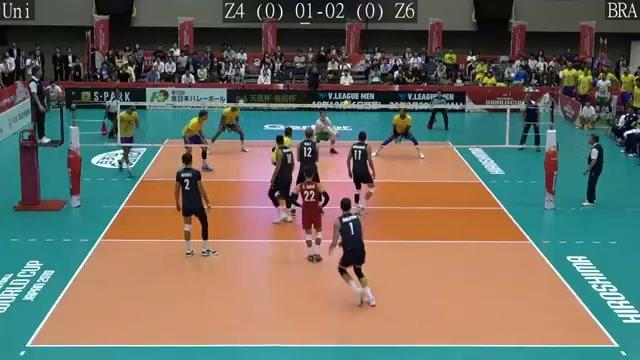ball: (342, 99, 350, 107)
